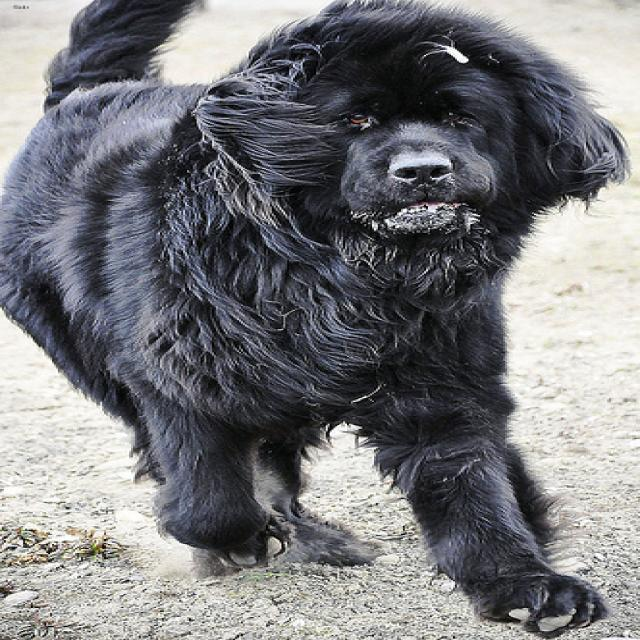dog-newfoundland: (2, 1, 636, 637)
